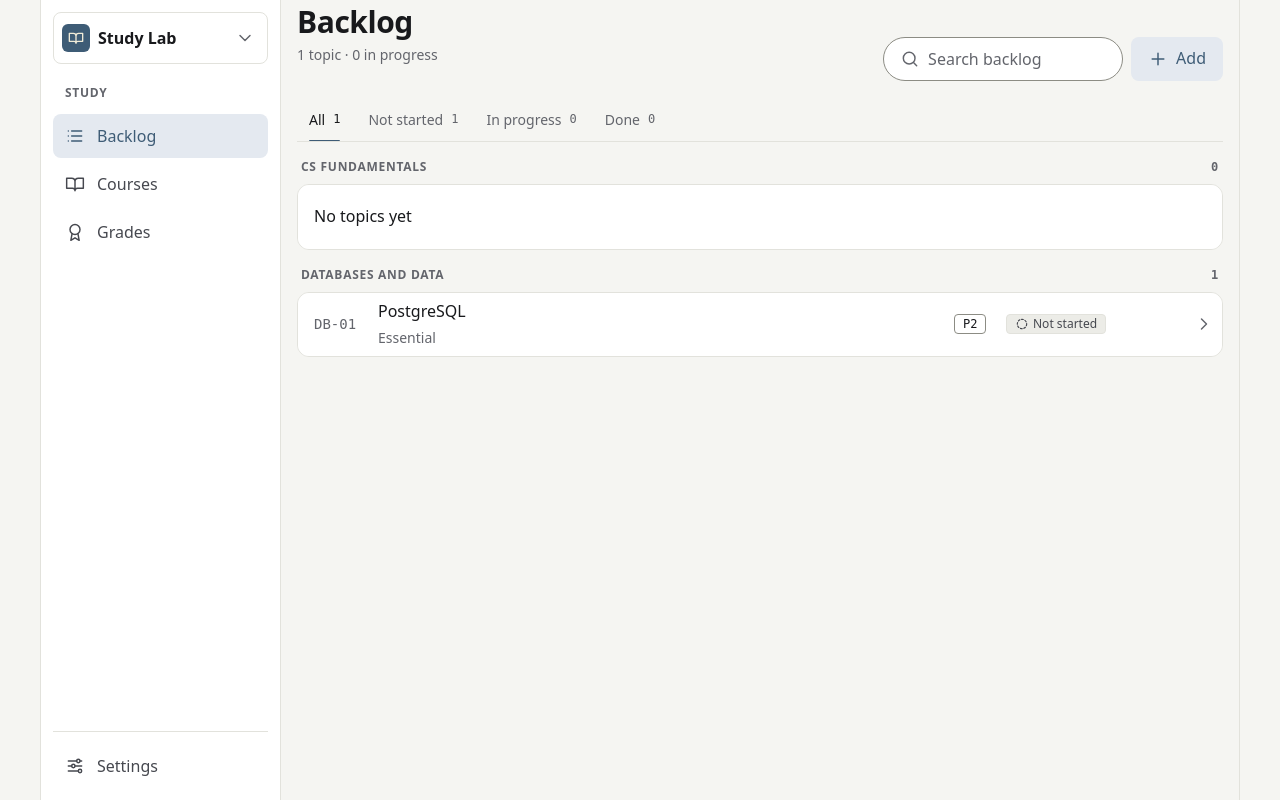
Test: Add a topic › asks for a skill and an area before sending anything
The image size is (1280, 800).
Step 1. Click the button "Add" → (1177, 59), box [1131,37,1223,81]
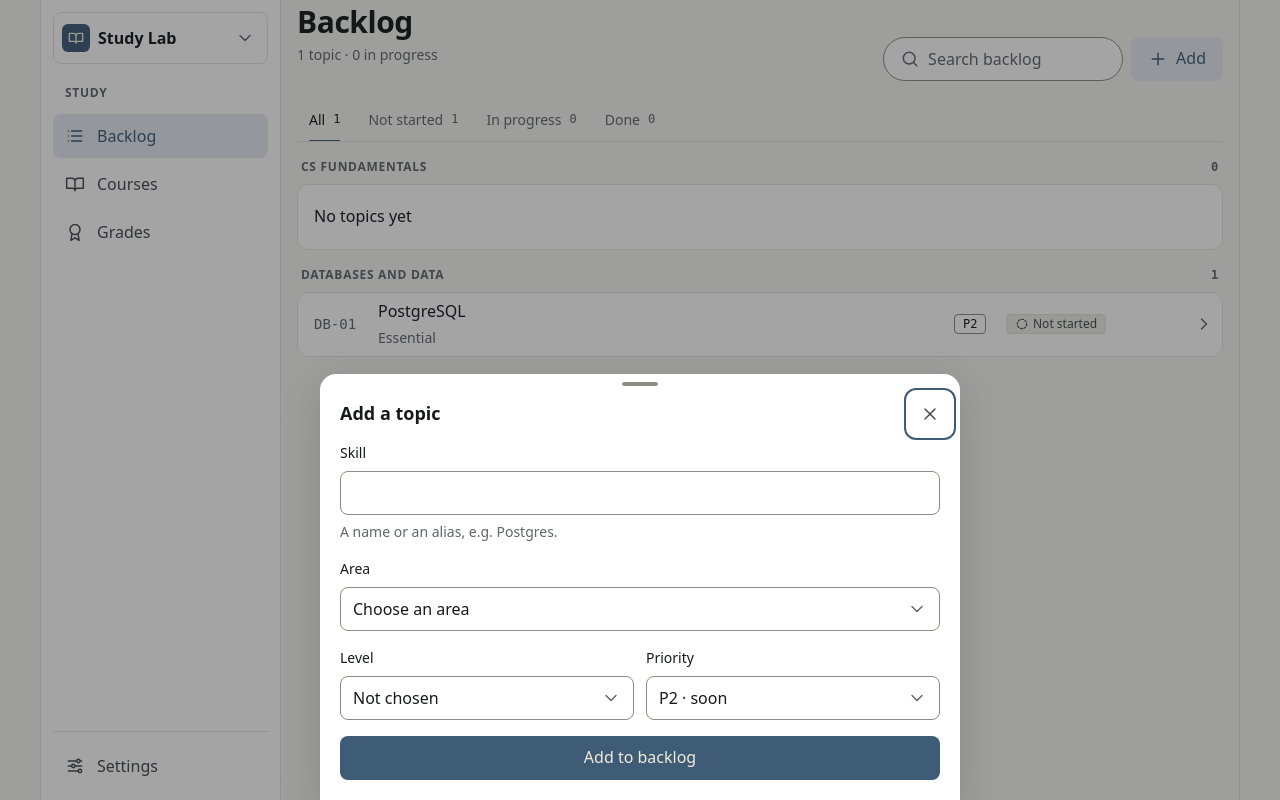
Step 2. Click the button "Add to backlog" → (640, 758), box [340,736,940,780]
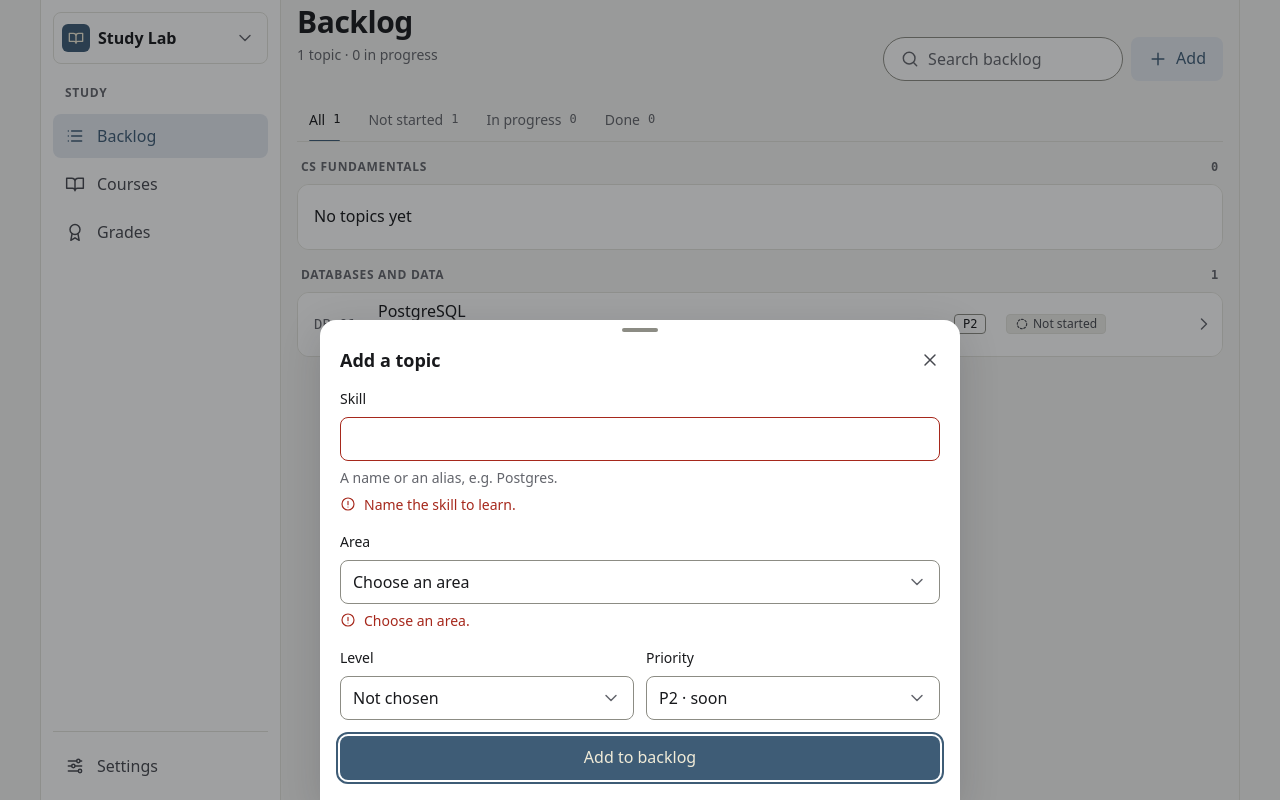
Expected: the text "Name the skill to learn." is shown, [340,495,516,514]
Expected: the text "Choose an area." is shown, [340,611,470,630]
